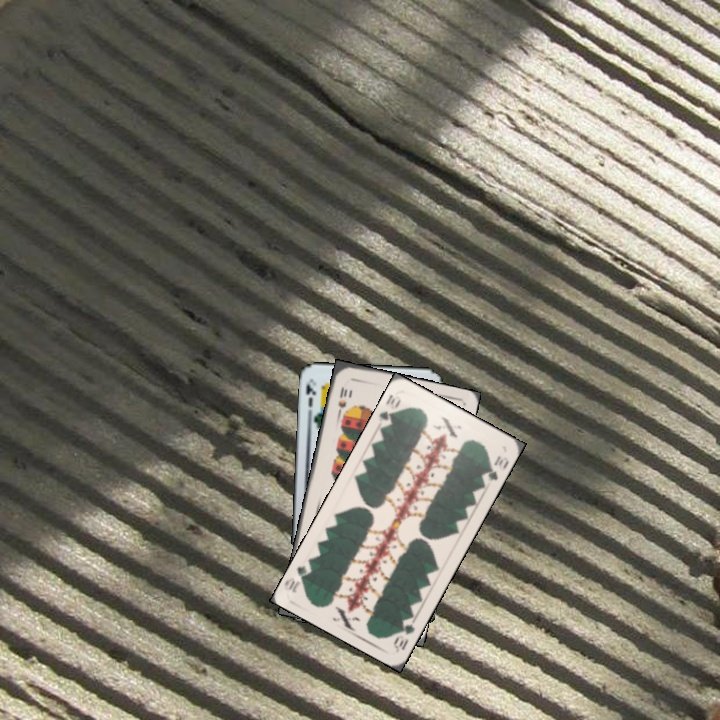EK: (301, 377, 319, 410)
G10: (389, 613, 418, 653), (375, 391, 404, 430)
S10: (334, 382, 350, 417)
